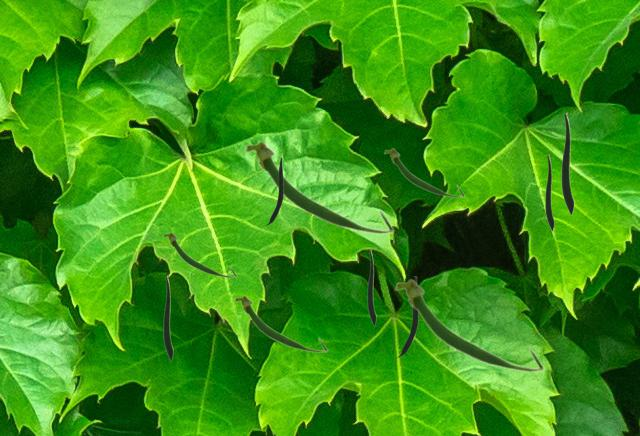french_bean: (243, 140, 394, 234), (393, 278, 544, 372), (233, 294, 327, 352), (383, 147, 464, 197), (162, 231, 236, 277), (397, 276, 417, 356), (561, 112, 573, 214), (266, 157, 282, 224), (163, 275, 172, 360), (367, 249, 375, 325), (545, 154, 553, 230)
